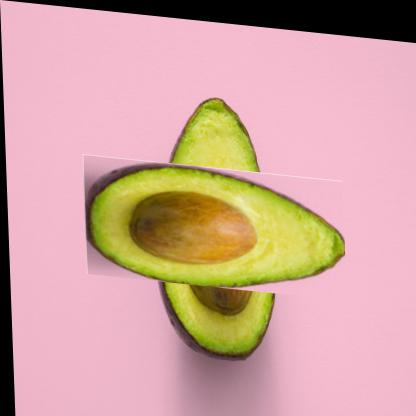avocado: (115, 120, 312, 327)
